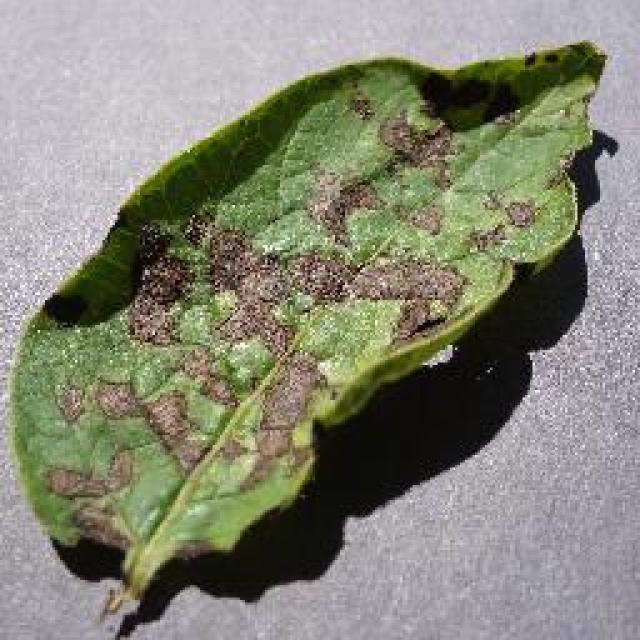early_blight: (2, 35, 610, 613)
